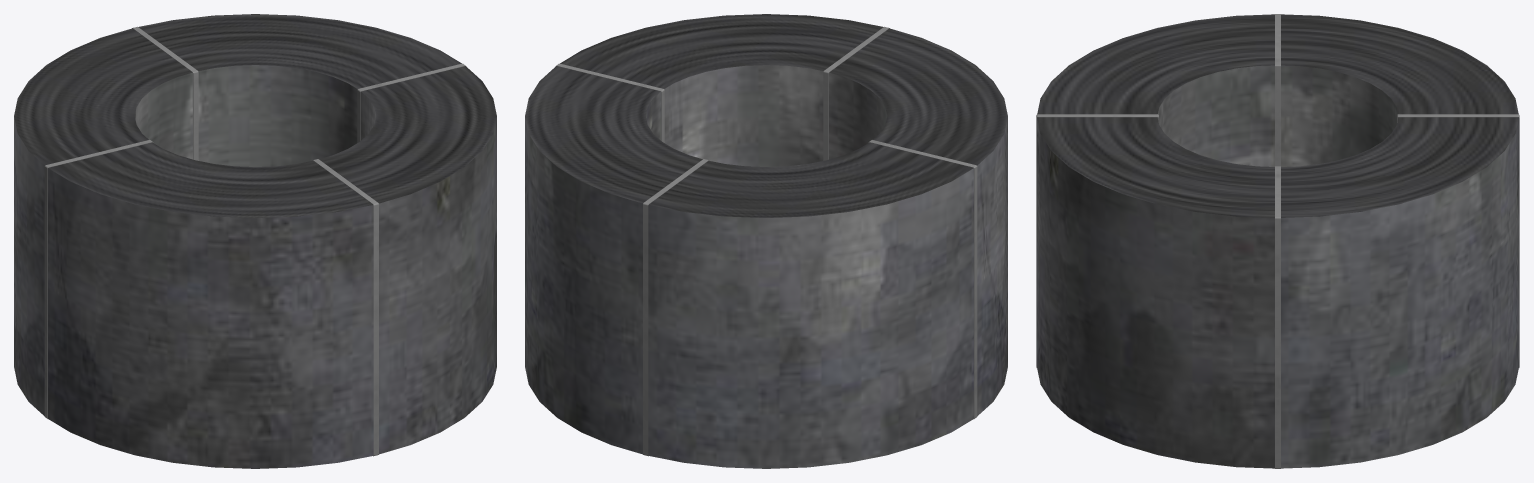
The model's file is Coil_g.gltf.
3 views of the same model, side by side, from view 1: azimuth 30°, elevation 25°; view 2: azimuth 150°, elevation 25°; view 3: azimuth 270°, elevation 25° (orthographic).
Parts seen in each view (by area): view 1: Tube004; view 2: Tube004; view 3: Tube004.
Part boxes in pixels (x1,y1,x2,y2): Tube004: (14, 14, 496, 468); Tube004: (525, 14, 1007, 468); Tube004: (1036, 14, 1519, 468).
Bounding box in the file's own units: 0.4554 × 0.2619 × 0.4554.
3 materials, 3 textured.
